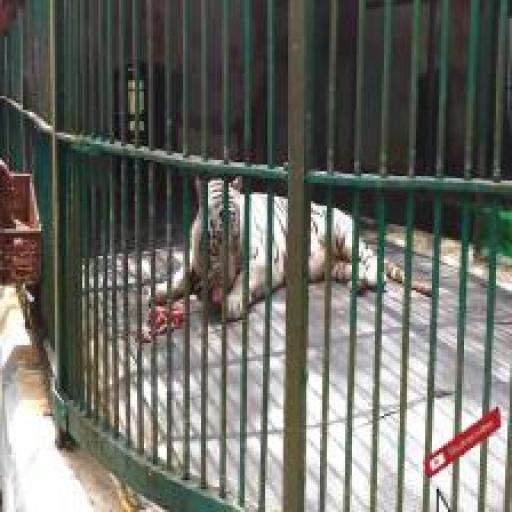Tiger: (146, 167, 437, 331)
